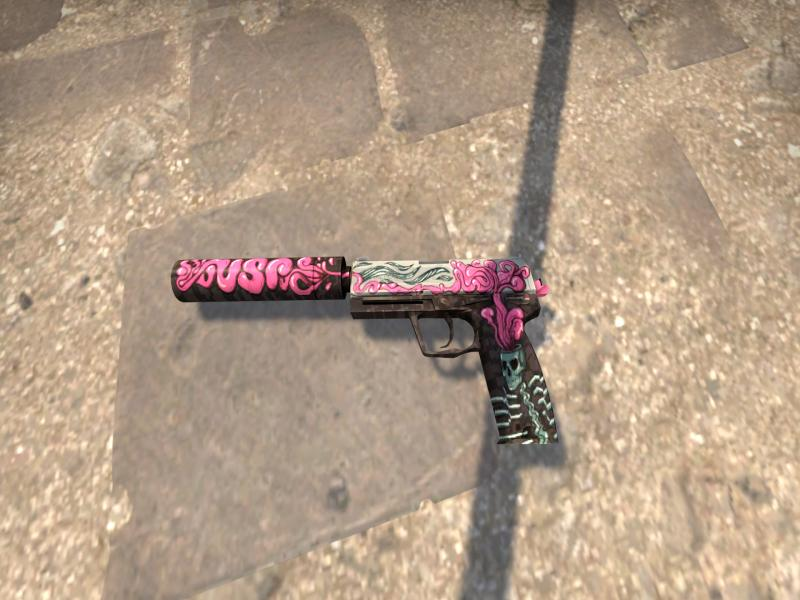USP: (170, 256, 558, 443)
